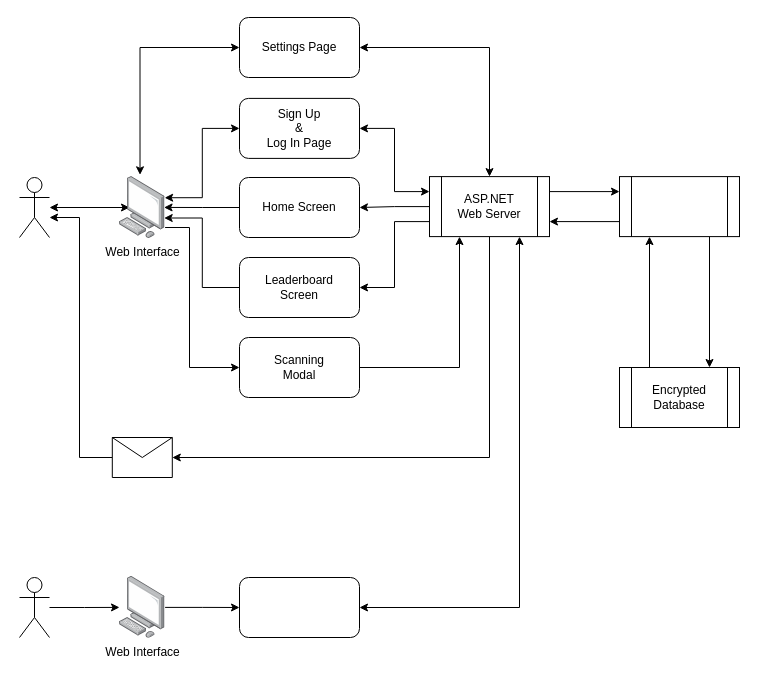
This 757x677 diagram has some shape labels left out. The shapes that lost their labels are listed below. From the top down, each one's centre as x and y in pixels, then its label:
At [34,207]: "User".
At [679,206]: "Data Library".
At [141,457]: "Temporary Access Code".
At [34,607]: "Admin".
At [299,607]: "Admin Page".
